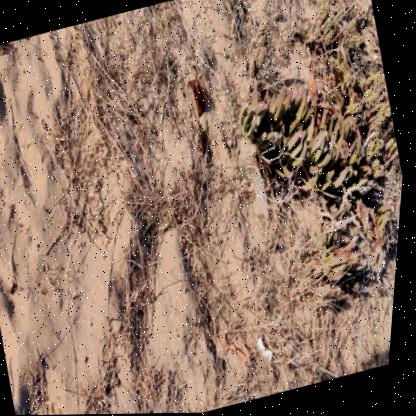Glass: (188, 80, 207, 119), (191, 121, 196, 138)
Plastic: (239, 139, 272, 220), (237, 59, 247, 77)
Waste: (262, 337, 277, 360)
